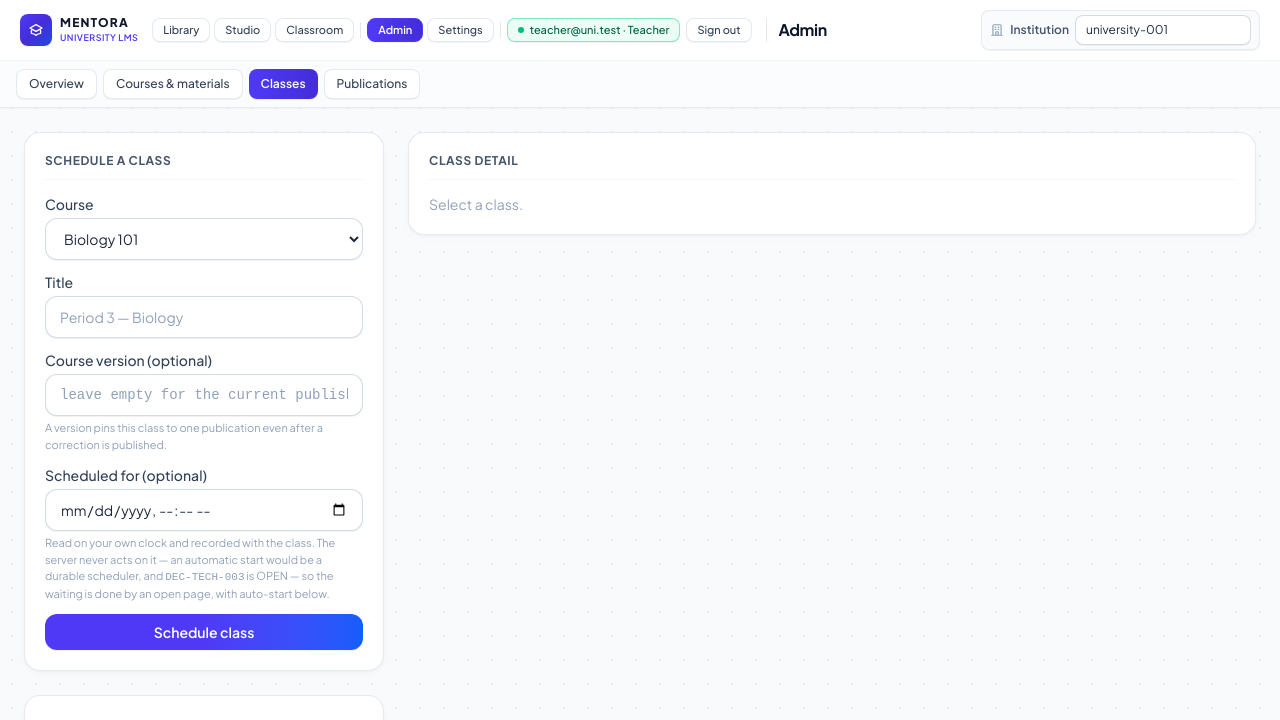
Scenario: AdminPage — classes › schedules a class onto a course
Type "Period 3" into the field labelled "Title" at point(204, 317), box [45,296,363,338]
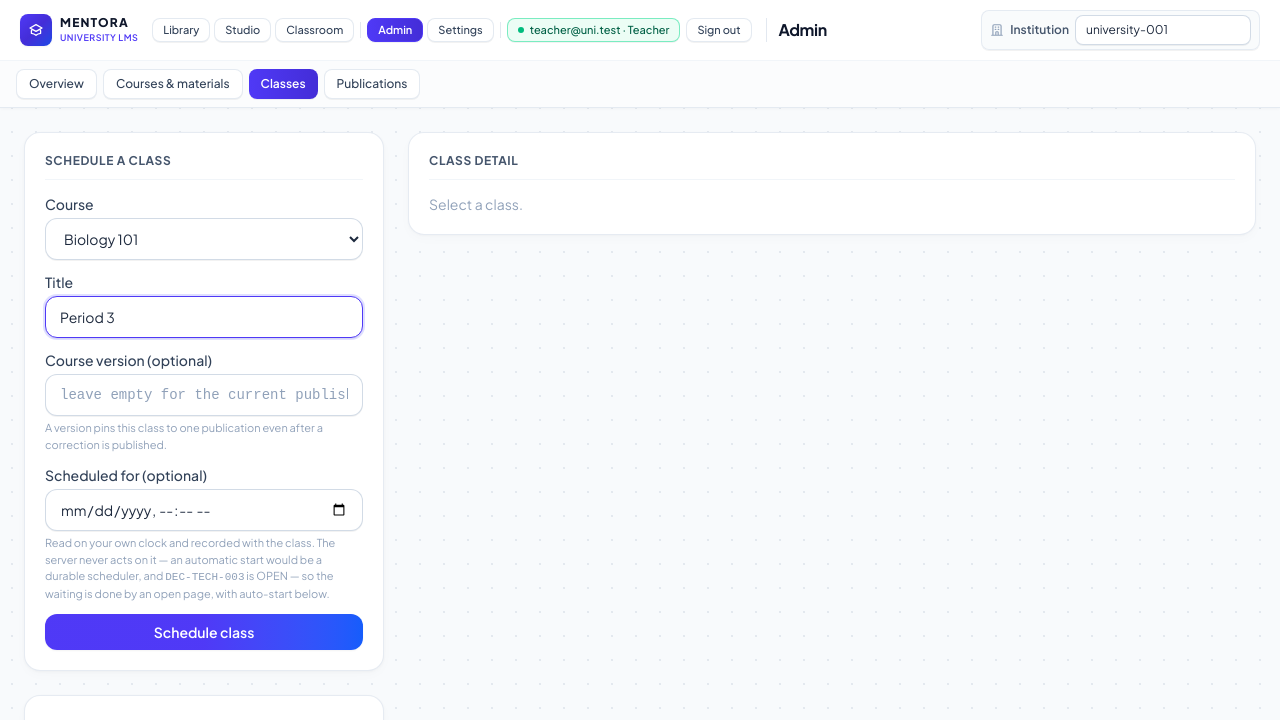
Click the button "Schedule class" at point(204, 632), box [45,614,363,650]
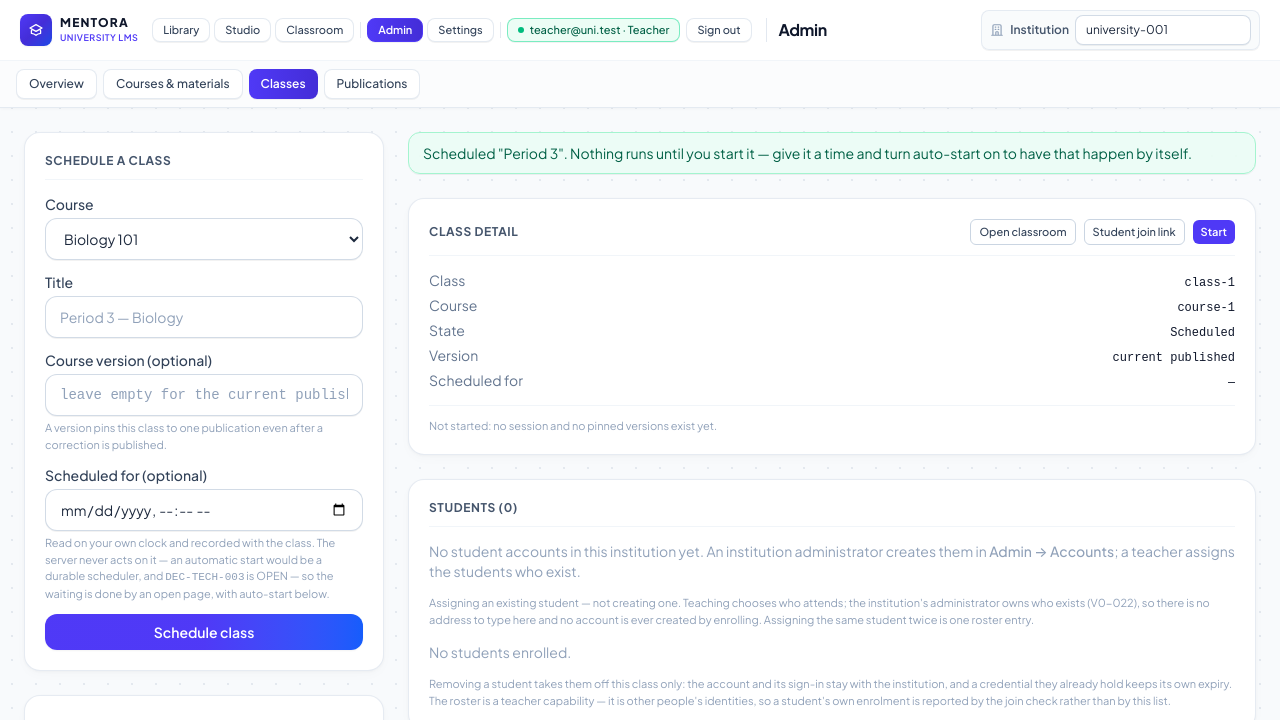
Now the text "Nothing runs until you start it" is shown, box [423,144,1192,162]
